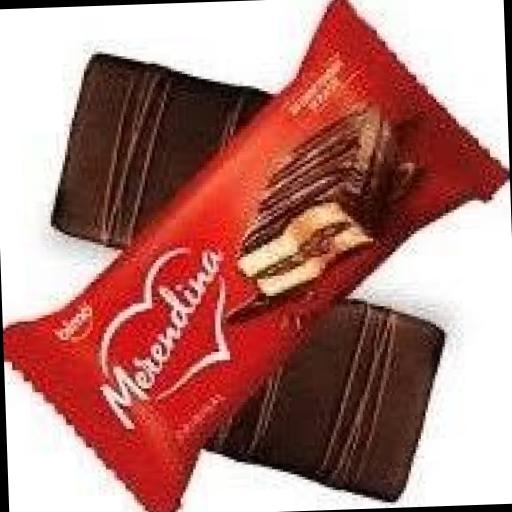merendina: (0, 0, 488, 450)
